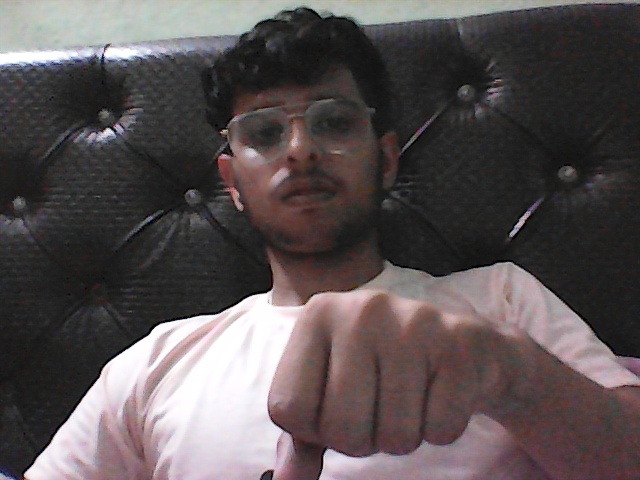yes: (241, 248, 501, 480)
